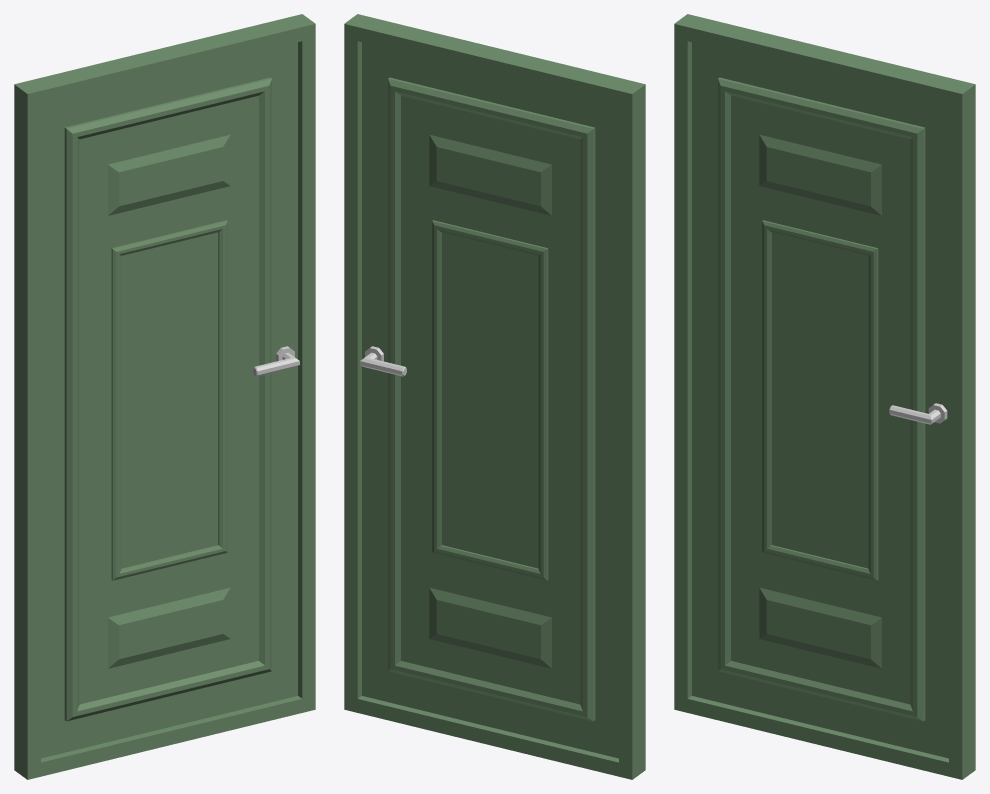
The model's file is Mesh_Door_C12.fbx.
3 renders of one model, left to right at view 1: azimuth 30°, elevation 25°; view 2: azimuth 150°, elevation 25°; view 3: azimuth 330°, elevation 25°, orthographic.
Parts seen in each view (by area): view 1: Mesh_Door_C12; view 2: Mesh_Door_C12; view 3: Mesh_Door_C12.
Part boxes in pixels (<box>): Mesh_Door_C12: <box>14,14,315,779</box>; Mesh_Door_C12: <box>344,14,645,779</box>; Mesh_Door_C12: <box>674,14,975,779</box>.
Bounding box in the file's own units: 0.9 × 2.05 × 0.1524.
